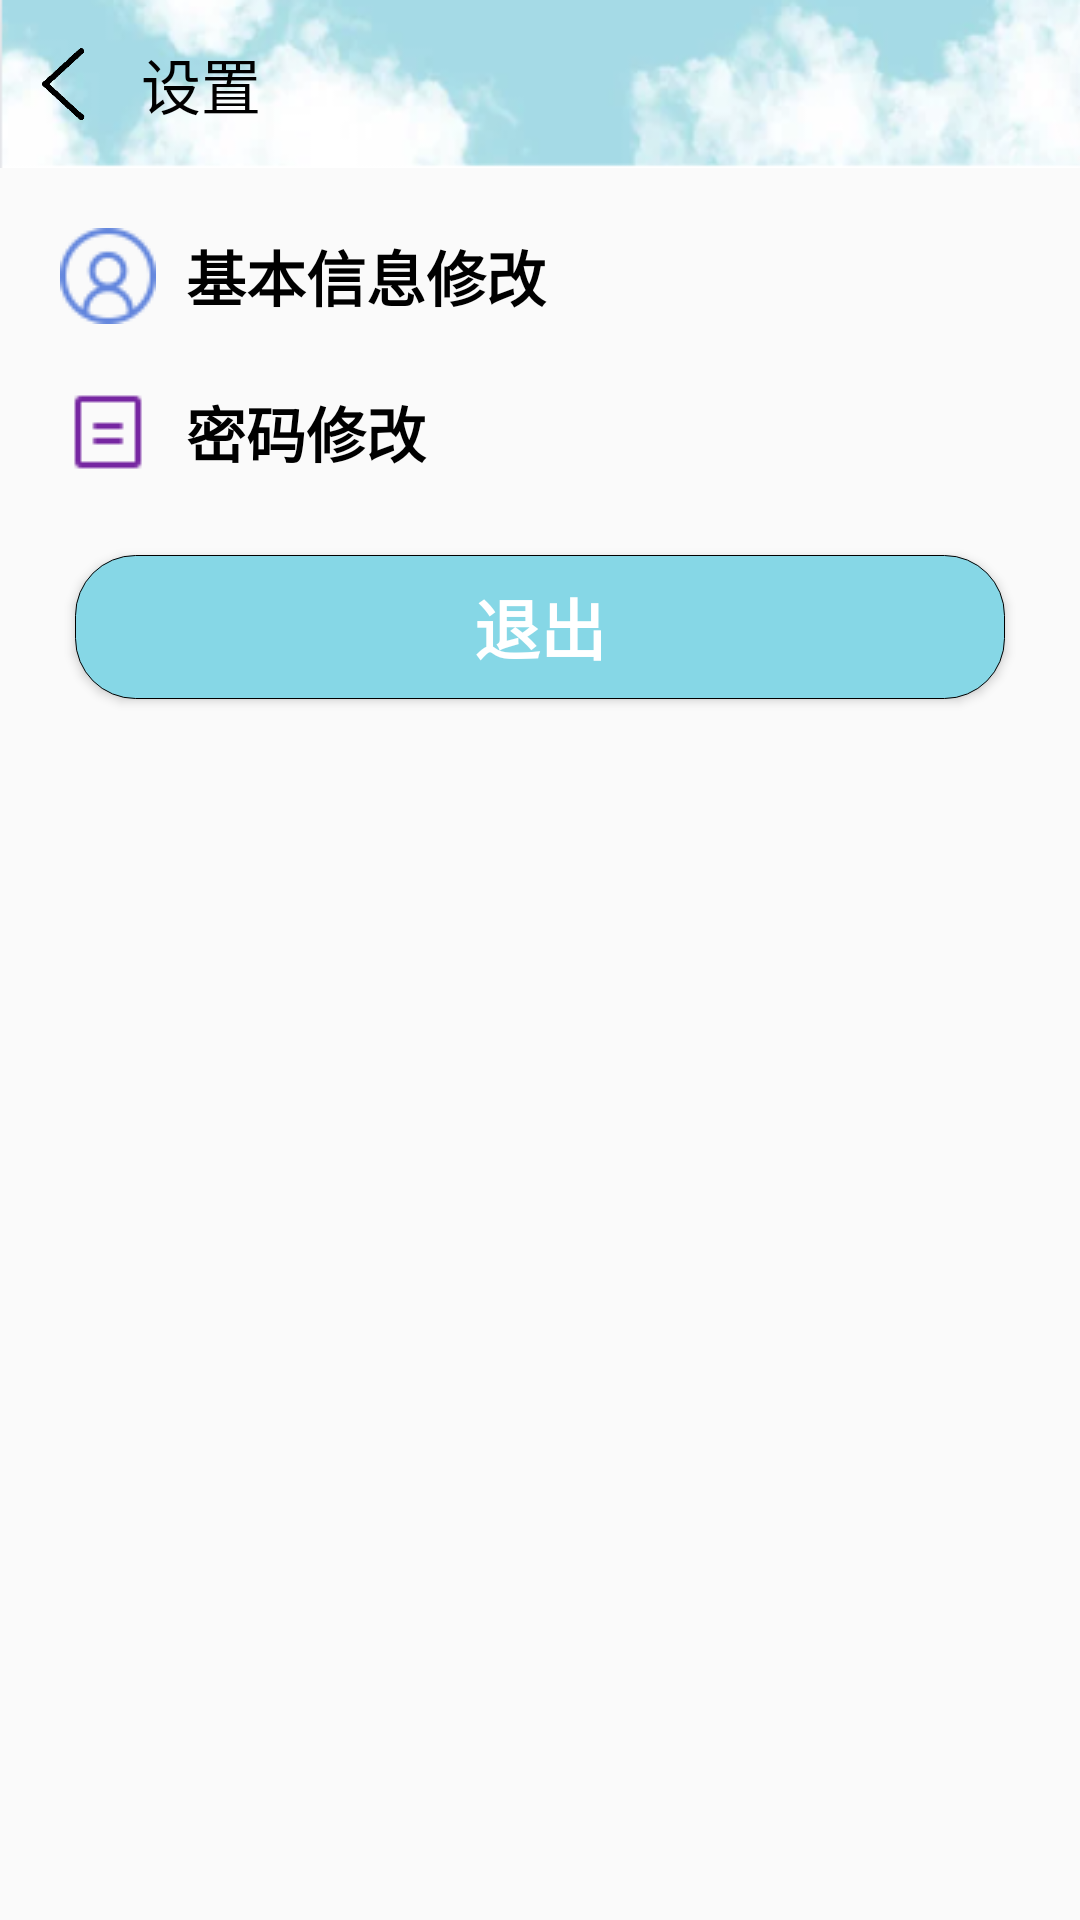

Where icons sit on this 1080*1920 app screen, as (x1, y1, x2, y2):
order: (74, 395, 142, 469)
